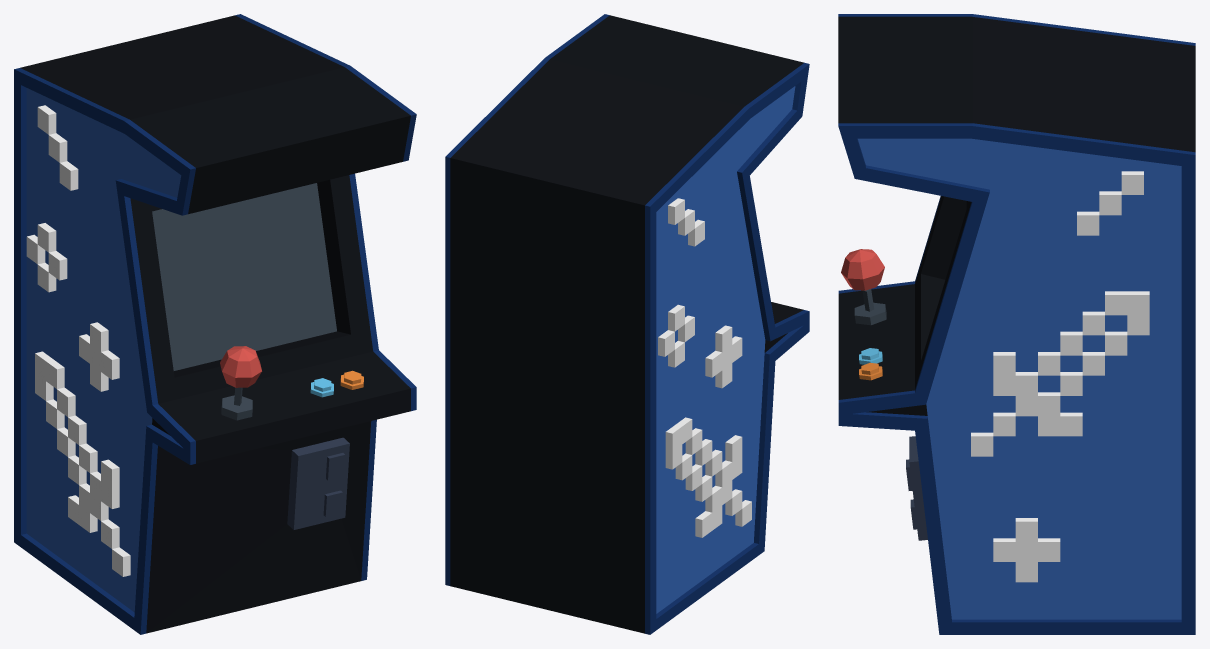
Rendered from arcade.fbx.
The picture shows the model from 3 angles, left to right: view 1: azimuth 30°, elevation 25°; view 2: azimuth 150°, elevation 25°; view 3: azimuth 270°, elevation 25°; orthographic projection. The views are drawn at different scales.
Visible parts, largest first — view 1: arcade; view 2: arcade; view 3: arcade.
Part boxes in pixels (x1,y1,x2,y2): arcade: (14,14,416,634); arcade: (445,14,809,634); arcade: (838,14,1195,634).
Bounding box in the file's own units: 121 × 252 × 160.
1 material, 1 textured.
